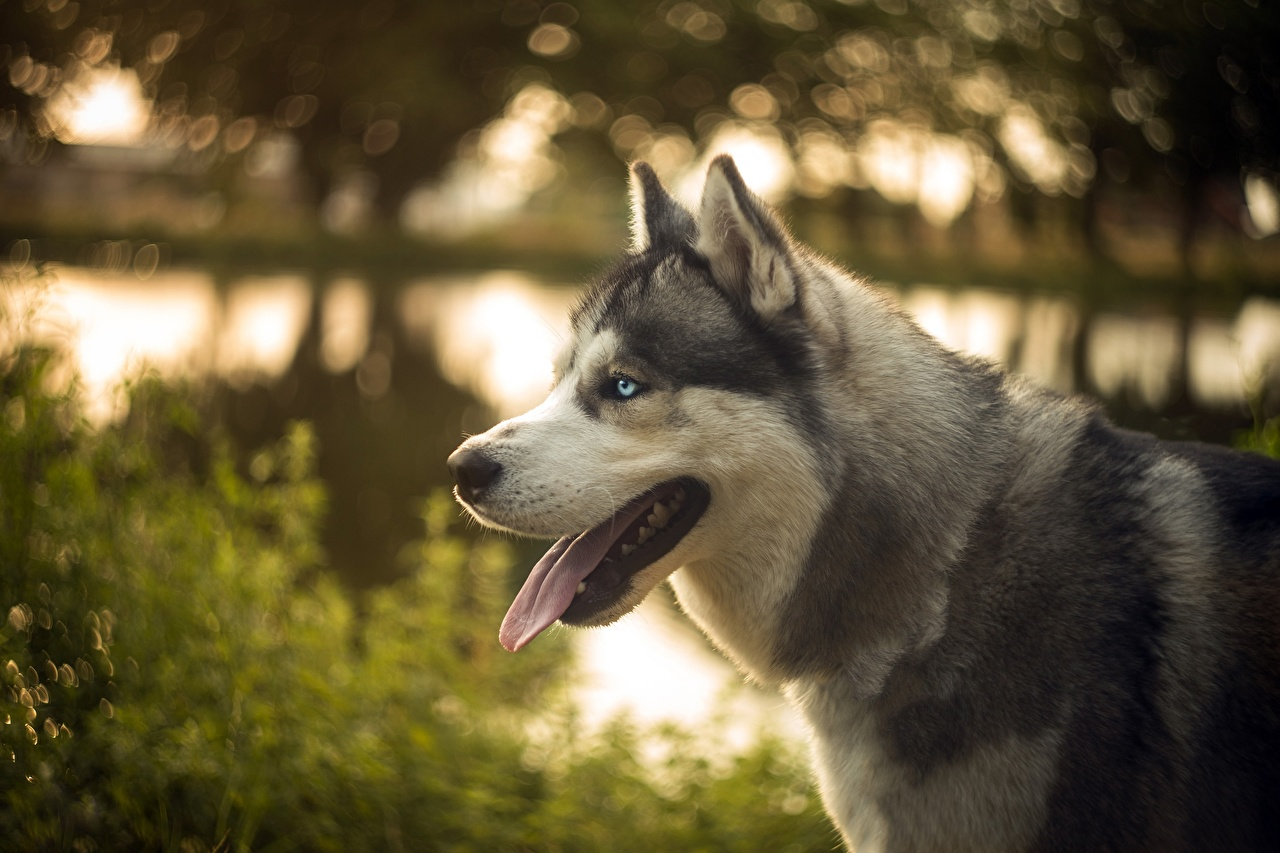husky: (437, 128, 1242, 848)
